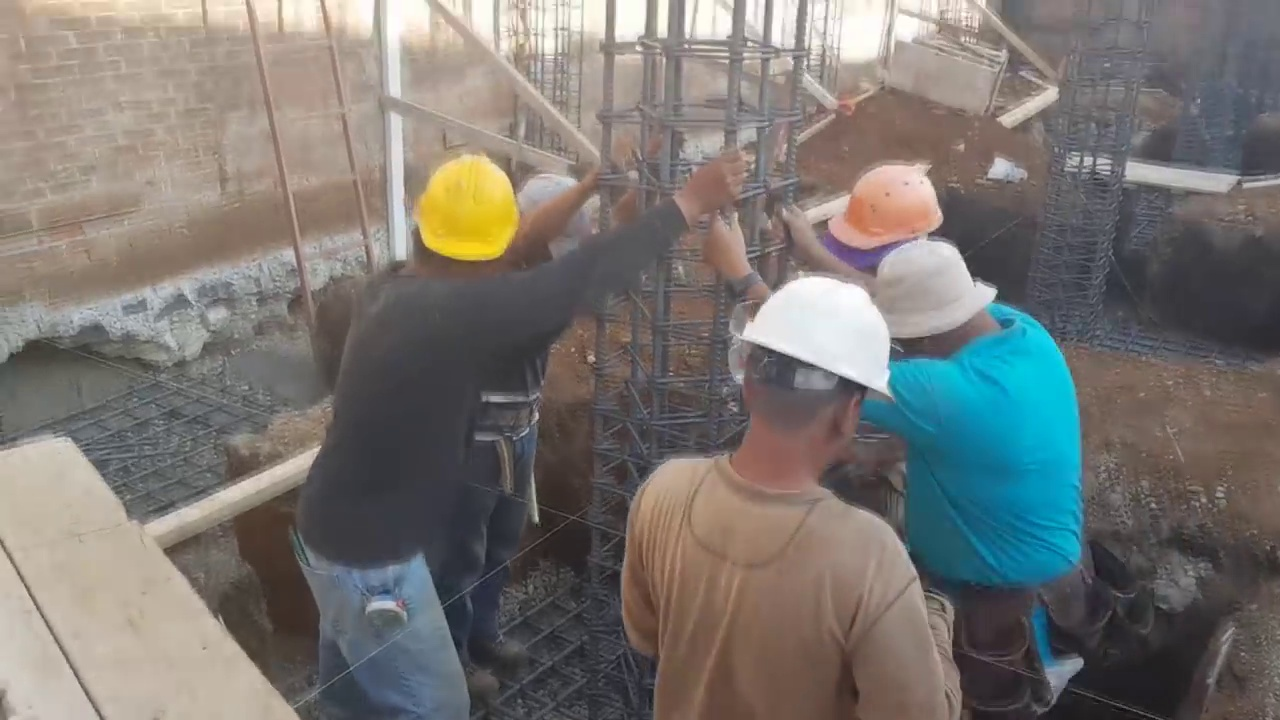helmet: (743, 278, 898, 407), (410, 158, 520, 263), (828, 162, 945, 252)
helmet-off: (858, 238, 1009, 353), (525, 176, 605, 276)
helmet-on: (720, 280, 899, 504), (387, 155, 528, 289), (825, 159, 955, 264)
person: (290, 150, 745, 720), (708, 210, 1098, 720), (629, 278, 967, 720), (435, 154, 615, 694)
